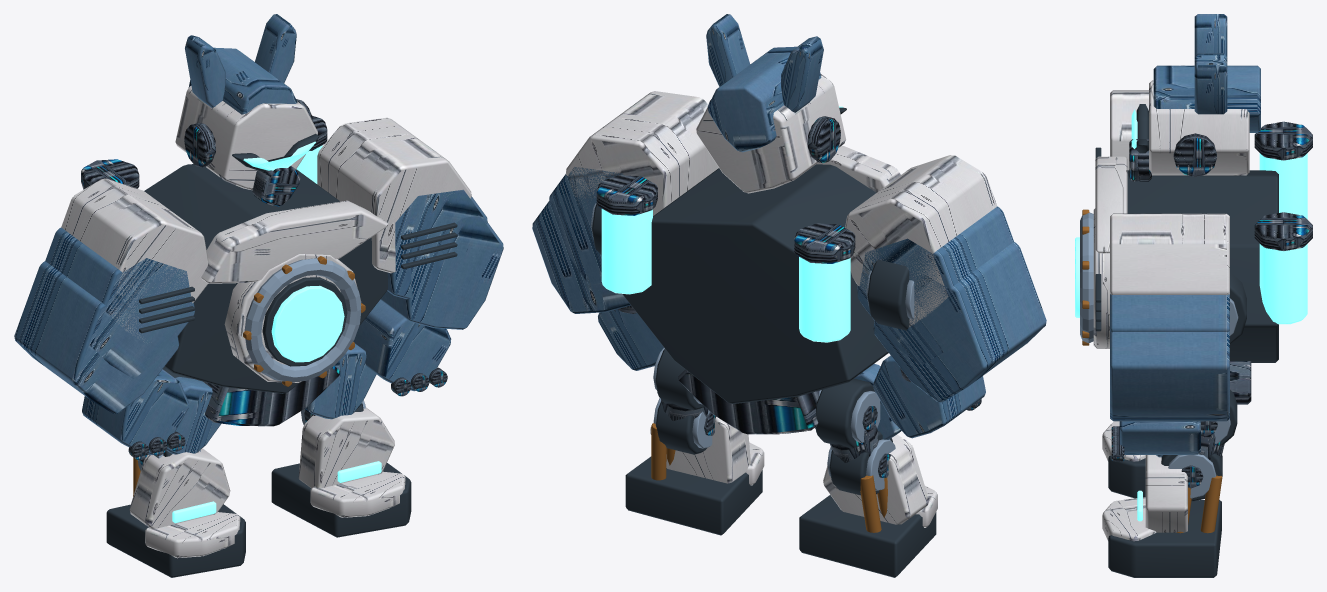
File: heavy.glb
3 renders of one model, left to right at view 1: azimuth 30°, elevation 25°; view 2: azimuth 150°, elevation 25°; view 3: azimuth 270°, elevation 25°, orthographic. The views are drawn at different scales.
Parts seen in each view (by area): view 1: Navy crown, Upper chest plating, Reinforced heavy torso, Face guard, Greave armor, Greave armor.001, Reactor concentric ring, Reactor lens, Servo housing.001, Servo housing.004, Tapered thigh shield.001, Tapered thigh shield; view 2: Navy crown, Reinforced heavy torso, Upper chest plating, Servo housing.001, Face guard, Servo housing.004, Biome pressure capsule, Greave armor, Greave armor.001, Bearing ring.002, Hub.002, Calf piston (+4 smaller); view 3: Navy crown, Upper chest plating, Reinforced heavy torso, Face guard, Servo housing.004, Biome pressure capsule, Greave armor.001, Reactor concentric ring, Servo housing.001, Bearing ring.008, Hub.008, Calf piston.002 (+3 smaller).
Boxes of the visible parts, x1=… form: Navy crown: x1=14, y1=14, x2=503, y2=454; Upper chest plating: x1=61, y1=86, x2=471, y2=382; Reinforced heavy torso: x1=139, y1=133, x2=457, y2=393; Face guard: x1=81, y1=99, x2=447, y2=460; Greave armor: x1=129, y1=448, x2=240, y2=558; Greave armor.001: x1=298, y1=407, x2=405, y2=517; Reactor concentric ring: x1=244, y1=258, x2=361, y2=382; Reactor lens: x1=243, y1=141, x2=344, y2=362; Servo housing.001: x1=106, y1=367, x2=245, y2=577; Servo housing.004: x1=271, y1=403, x2=411, y2=537; Tapered thigh shield.001: x1=305, y1=343, x2=376, y2=419; Tapered thigh shield: x1=166, y1=377, x2=220, y2=454; Navy crown: x1=532, y1=14, x2=1046, y2=438; Reinforced heavy torso: x1=592, y1=107, x2=909, y2=403; Upper chest plating: x1=566, y1=74, x2=997, y2=326; Servo housing.001: x1=799, y1=378, x2=936, y2=577; Face guard: x1=596, y1=99, x2=981, y2=434; Servo housing.004: x1=625, y1=349, x2=762, y2=535; Biome pressure capsule: x1=601, y1=209, x2=850, y2=342; Greave armor: x1=823, y1=434, x2=937, y2=527; Greave armor.001: x1=650, y1=417, x2=764, y2=485; Bearing ring.002: x1=815, y1=390, x2=895, y2=490; Hub.002: x1=830, y1=406, x2=891, y2=477; Calf piston: x1=860, y1=475, x2=887, y2=532; Navy crown: x1=1110, y1=14, x2=1260, y2=454; Upper chest plating: x1=1093, y1=80, x2=1249, y2=348; Reinforced heavy torso: x1=1095, y1=104, x2=1278, y2=362; Face guard: x1=1111, y1=121, x2=1312, y2=461; Servo housing.004: x1=1108, y1=390, x2=1237, y2=577; Biome pressure capsule: x1=1259, y1=153, x2=1307, y2=324; Greave armor.001: x1=1102, y1=455, x2=1187, y2=541; Reactor concentric ring: x1=1080, y1=212, x2=1238, y2=343; Servo housing.001: x1=1108, y1=455, x2=1145, y2=498; Bearing ring.008: x1=1168, y1=419, x2=1230, y2=498; Hub.008: x1=1181, y1=421, x2=1224, y2=488; Calf piston.002: x1=1176, y1=475, x2=1222, y2=533.
Bounding box in the file's own units: 1.52 × 1.64 × 0.7315.
Materials: 8 (3 with a texture image).
